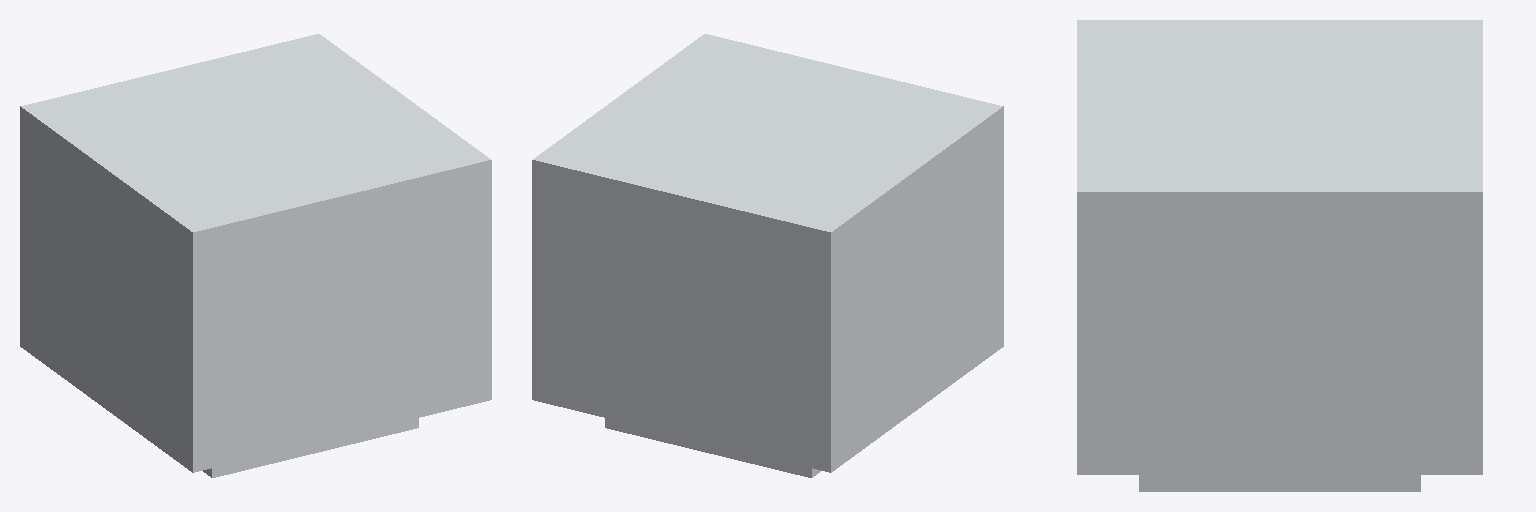
The robot description file, URDF, robot "PickUpObject_URDF":
<?xml version="1.0" encoding="utf-8"?>
<!-- This URDF was automatically created by SolidWorks to URDF Exporter! Originally created by [author] ([email redacted]) 
     Commit Version: 1.6.0-4-g7f85cfe  Build Version: 1.6.7995.38578
     For more information, please see http://wiki.ros.org/sw_urdf_exporter -->
<robot
  name="PickUpObject_URDF">
  <link
    name="base_link">
    <inertial>
      <origin
        xyz="-4.6759E-19 5.3414E-18 0.030572"
        rpy="0 0 0" />
      <mass
        value="0.61138" />
      <inertia
        ixx="0.00035838"
        ixy="1.1124E-21"
        ixz="-3.49E-21"
        iyy="0.00035838"
        iyz="1.0196E-20"
        izz="0.00041548" />
    </inertial>
    <visual>
      <origin
        xyz="0 0 0"
        rpy="0 0 0" />
      <geometry>
        <mesh
          filename="package://PickUpObject_URDF/meshes/base_link.STL" />
      </geometry>
      <material
        name="">
        <color
          rgba="0.89804 0.91765 0.92941 1" />
      </material>
    </visual>
    <collision>
      <origin
        xyz="0 0 0"
        rpy="0 0 0" />
      <geometry>
        <mesh
          filename="package://PickUpObject_URDF/meshes/base_link.STL" />
      </geometry>
    </collision>
  </link>
</robot>

--- Render facts (derived) ---
The picture shows the robot from 3 angles, left to right: view 1: azimuth 30°, elevation 25°; view 2: azimuth 150°, elevation 25°; view 3: azimuth 270°, elevation 25°; orthographic projection.
Model PickUpObject_URDF with 1 links and 0 joints (none), rooted at base_link, posed every joint at zero.
Links seen in each view (by area): view 1: base_link; view 2: base_link; view 3: base_link.
Link boxes in pixels (x1,y1,x2,y2): base_link: (20,34,491,477); base_link: (532,34,1003,477); base_link: (1077,20,1482,491).
Size in the robot's own frame: 0.065 by 0.065 by 0.0575 metres.
1 mesh visuals loaded from 1 distinct referenced files (1 binary STL).
